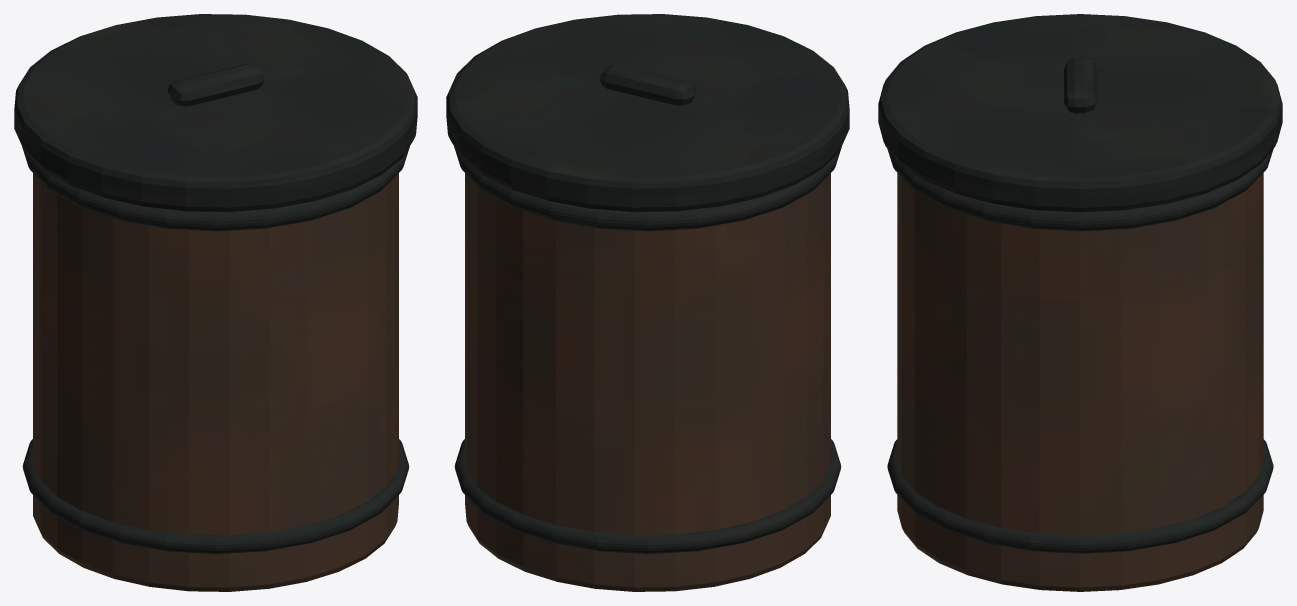
Rendered from metal-trash-can-v1.glb.
3 views of the same model, side by side, from view 1: azimuth 30°, elevation 25°; view 2: azimuth 150°, elevation 25°; view 3: azimuth 270°, elevation 25° (orthographic).
Visible parts, largest first — view 1: trash_body, trash_lid, trash_bottom_ring, trash_top_ring, trash_handle; view 2: trash_body, trash_lid, trash_bottom_ring, trash_top_ring, trash_handle; view 3: trash_body, trash_lid, trash_bottom_ring, trash_top_ring, trash_handle.
Part boxes in pixels (x1,y1,x2,y2): trash_body: (33,173,398,591); trash_lid: (14,14,417,211); trash_bottom_ring: (22,439,409,553); trash_top_ring: (22,146,409,231); trash_handle: (167,64,264,106); trash_body: (465,173,830,591); trash_lid: (446,14,849,211); trash_bottom_ring: (454,439,841,553); trash_top_ring: (454,146,841,231); trash_handle: (599,64,696,105); trash_body: (897,173,1263,591); trash_lid: (878,14,1282,212); trash_bottom_ring: (887,439,1273,553); trash_top_ring: (887,149,1273,231); trash_handle: (1064,57,1096,113).
Size of the model in its own units: 0.86 by 1.04 by 0.86.
2 materials, 2 textured.
